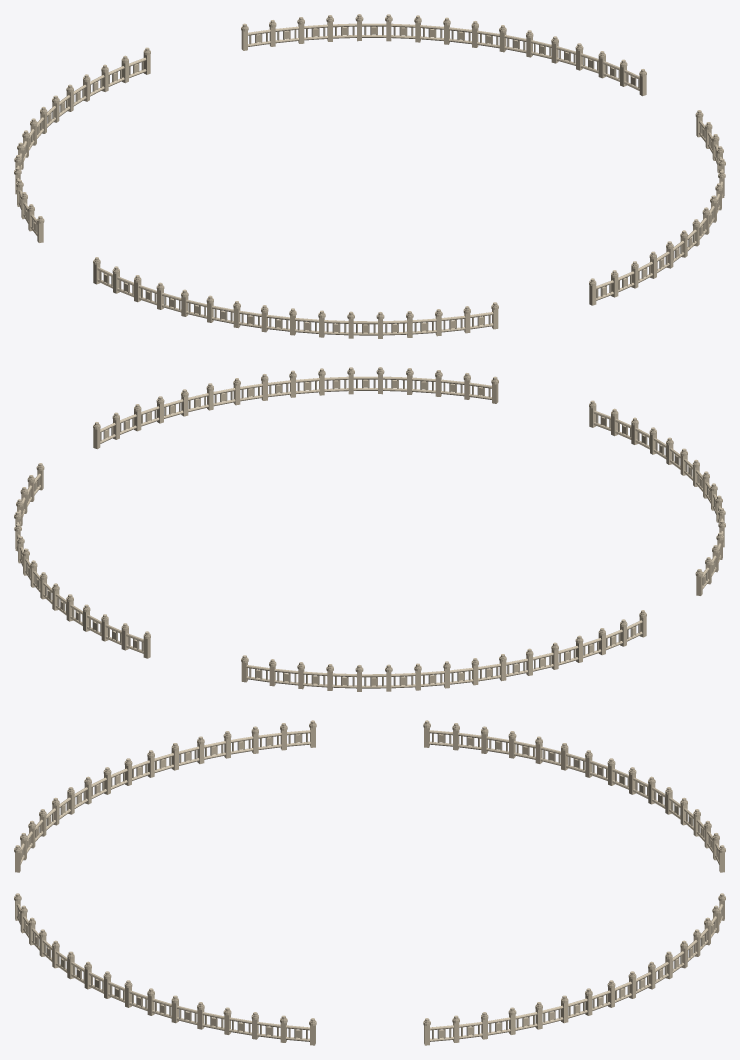
File: SM_13_Rail_3.fbx
The picture shows the model from 3 angles, top to bottom: view 1: azimuth 30°, elevation 25°; view 2: azimuth 150°, elevation 25°; view 3: azimuth 270°, elevation 25°; orthographic projection.
Visible parts, largest first — view 1: Rail_3; view 2: Rail_3; view 3: Rail_3.
Boxes of the visible parts, box(x1,y1,x2,y2) form: Rail_3: box(14, 14, 725, 338); Rail_3: box(14, 367, 725, 691); Rail_3: box(14, 720, 725, 1045).
Size of the model in its own units: 3931 by 3931 by 155.
